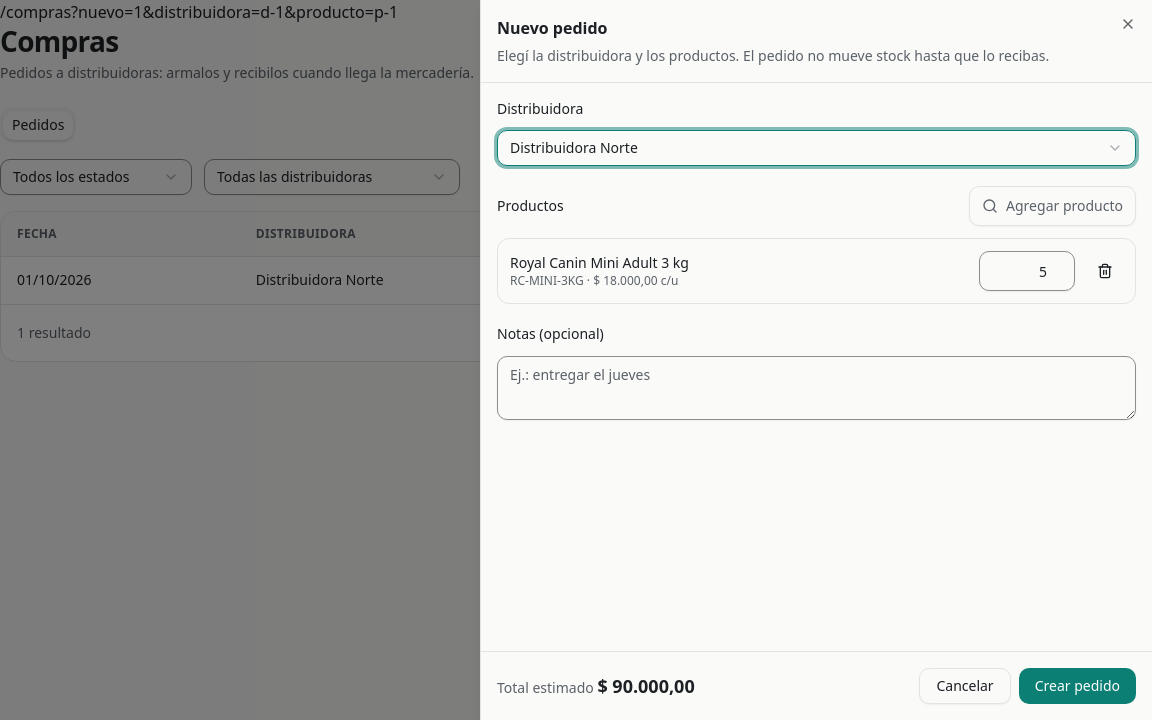
Test case: ComprasPage - pedidos › desde Reposición (?nuevo=1&distribuidora&producto) abre el alta con todo preparado y limpia la URL al cerrar
Check: the dropdown reads "Distribuidora Norte", box [497,130,1136,166]
Check: the number field named "cantidad de royal canin" holds "5", box [979,251,1075,291]
Click the button "Cancelar": (965, 686) [919,668,1011,704]
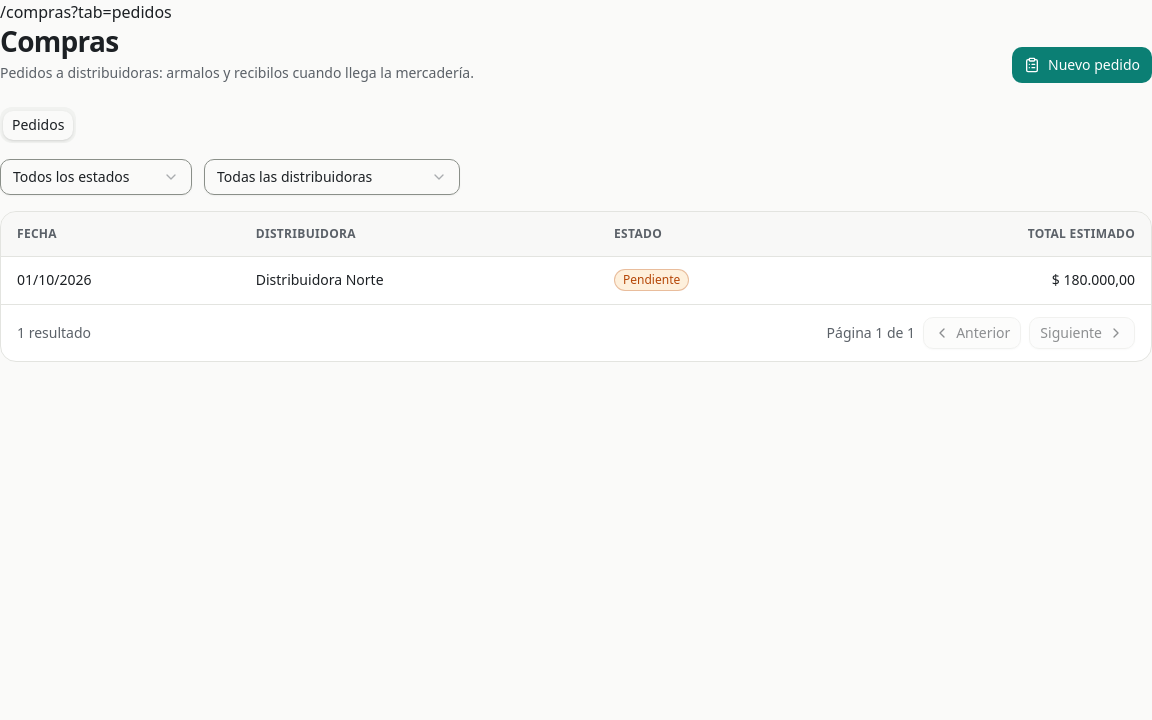
Check: the text with test id "ubicacion" reads "/compras?tab=pedidos", box [0,1,172,23]
